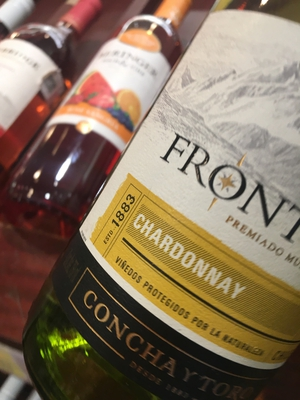frontera chardonnay: (72, 16, 300, 388)
